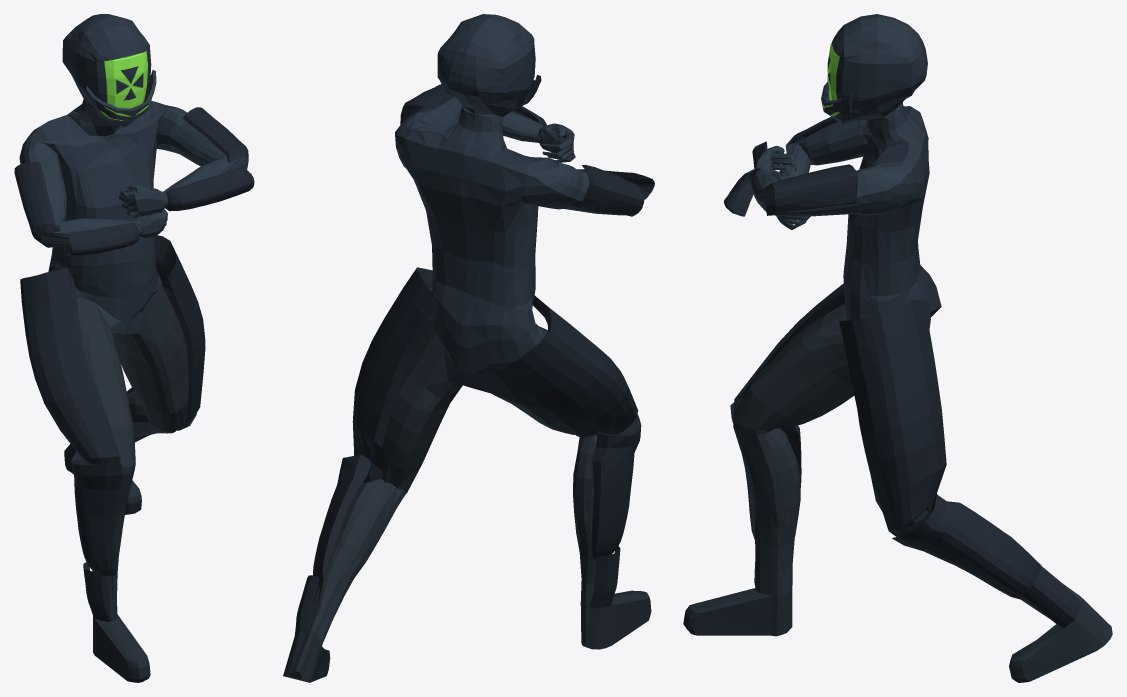
The model's file is Bastion_WR_000006.obj.
3 renders of one model, left to right at view 1: azimuth 30°, elevation 25°; view 2: azimuth 150°, elevation 25°; view 3: azimuth 270°, elevation 25°, orthographic. The views are drawn at different scales.
Parts seen in each view (by area): view 1: Cube.002; view 2: Cube.002; view 3: Cube.002.
Part boxes in pixels (x1,y1,x2,y2): Cube.002: (14, 14, 254, 682); Cube.002: (283, 14, 654, 682); Cube.002: (683, 14, 1112, 682).
Bounding box in the file's own units: 1.39 × 3.58 × 2.18.
